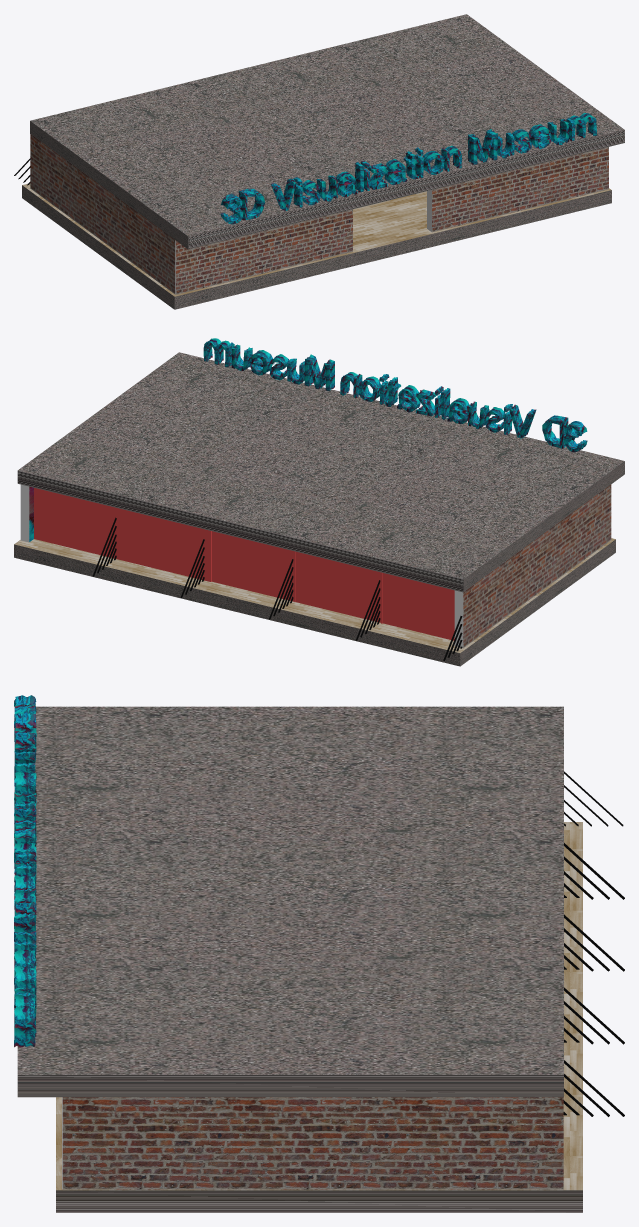
The model's file is room.gltf.
3 renders of one model, top to bottom at view 1: azimuth 30°, elevation 25°; view 2: azimuth 150°, elevation 25°; view 3: azimuth 270°, elevation 25°, orthographic. The views are drawn at different scales.
Visible parts, largest first — view 1: Box5, Box1, Text6, Box19, Box7, Box6; view 2: Box5, Box1, Text6, Box19, Box82, Box8, Box16, Box104, Box3, Box9; view 3: Box5, Box9, Box1, Text6.
Part boxes in pixels (x1,y1,x2,y2): Box5: (30, 14, 624, 249); Box1: (22, 183, 611, 309); Text6: (220, 112, 597, 224); Box19: (30, 134, 175, 294); Box7: (427, 147, 608, 232); Box6: (175, 209, 352, 294); Box5: (17, 352, 624, 592); Box1: (14, 538, 615, 666); Text6: (203, 338, 587, 452); Box19: (454, 484, 611, 648); Box82: (114, 507, 211, 581); Box8: (295, 551, 380, 622); Box16: (211, 531, 294, 601); Box104: (34, 488, 122, 558); Box3: (382, 573, 454, 640); Box9: (20, 484, 33, 542); Box5: (17, 706, 563, 1097); Box9: (62, 1097, 563, 1189); Box1: (56, 822, 582, 1212); Text6: (14, 695, 36, 1047).
Size of the model in its own units: 43.41 by 10.35 by 30.29.
105 materials, 4 textured.
